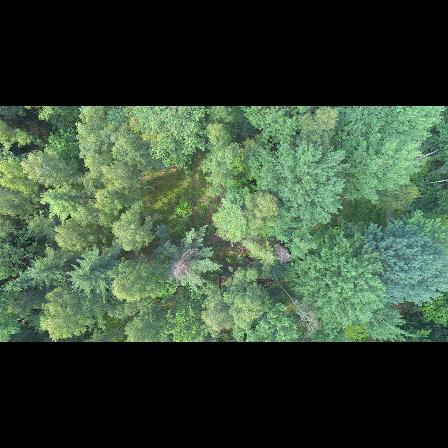Dead: (270, 273, 317, 332), (166, 250, 200, 289), (270, 241, 295, 262)
